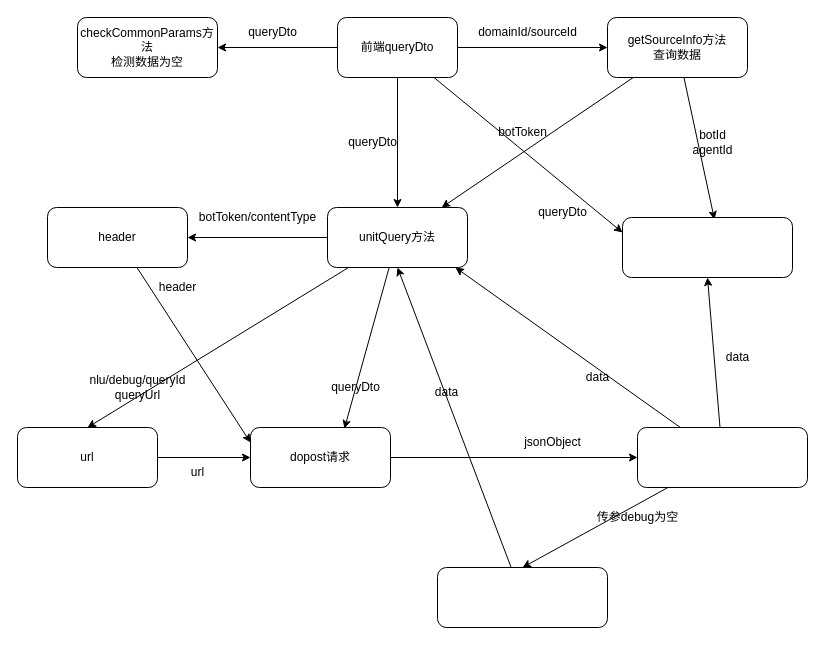
Some shapes in this 825 by 645 pixel diagram are drawn without their labels. Here are the shapes that lost their labels. From the top down, the box of each, then its label:
(622, 216, 792, 278): startRecords方法存参
(636, 426, 808, 488): checkResult方法 验null、转为UnitResult、验code
(436, 566, 608, 628): assemblyDebyg方法 移除debug
